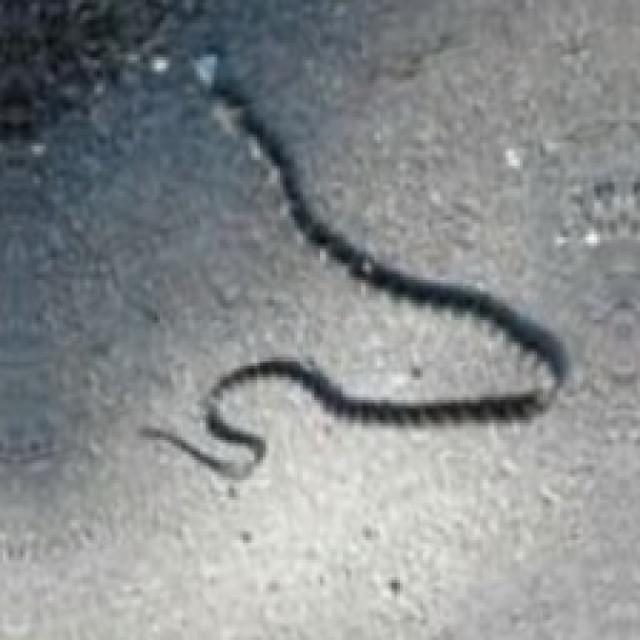king cobra: (0, 0, 563, 474), (140, 54, 566, 477)
